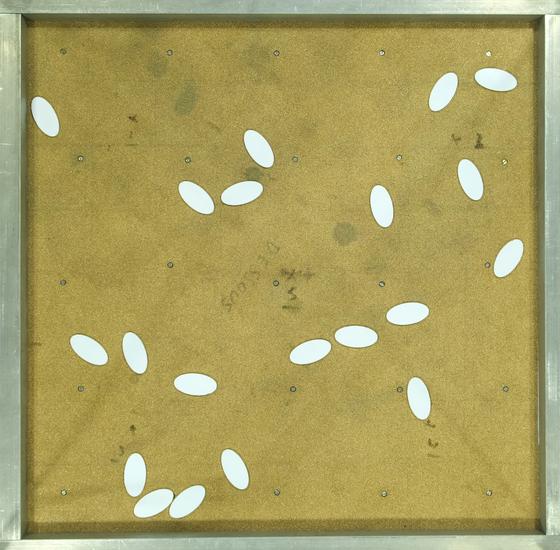pallet: (471, 61, 524, 98), (26, 93, 68, 138), (214, 447, 256, 492), (398, 375, 440, 420), (489, 232, 531, 277), (66, 329, 108, 374), (116, 331, 158, 376), (423, 70, 465, 115), (450, 157, 492, 202), (359, 183, 401, 228), (221, 170, 263, 215), (176, 175, 218, 220), (238, 127, 280, 172), (167, 479, 209, 524), (113, 450, 155, 495), (382, 295, 432, 329), (332, 320, 379, 355), (172, 369, 217, 404), (130, 486, 176, 519), (286, 336, 332, 368)
